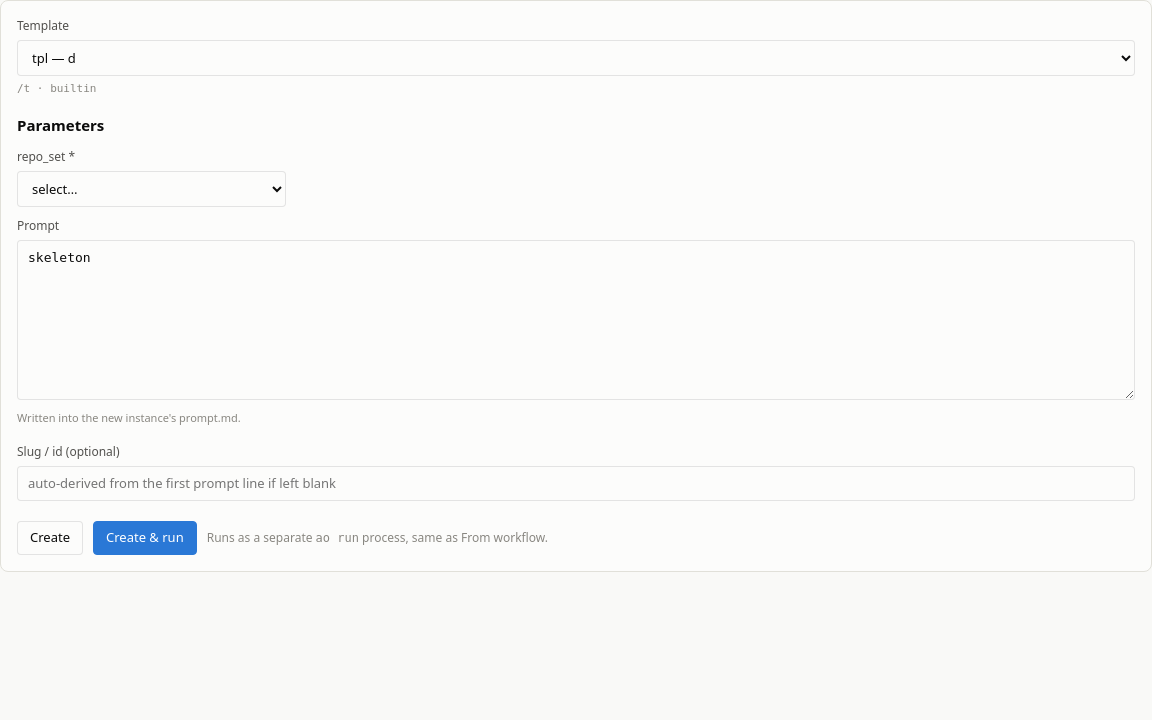
TemplateLaunch 'Create & run' flow › unconfirmed: waits, no navigation
The width and height of the screenshot is (1152, 720).
Select "fin-plan" in the dropdown labelled "repo_set *" at point(152, 189), box [17,171,286,207]
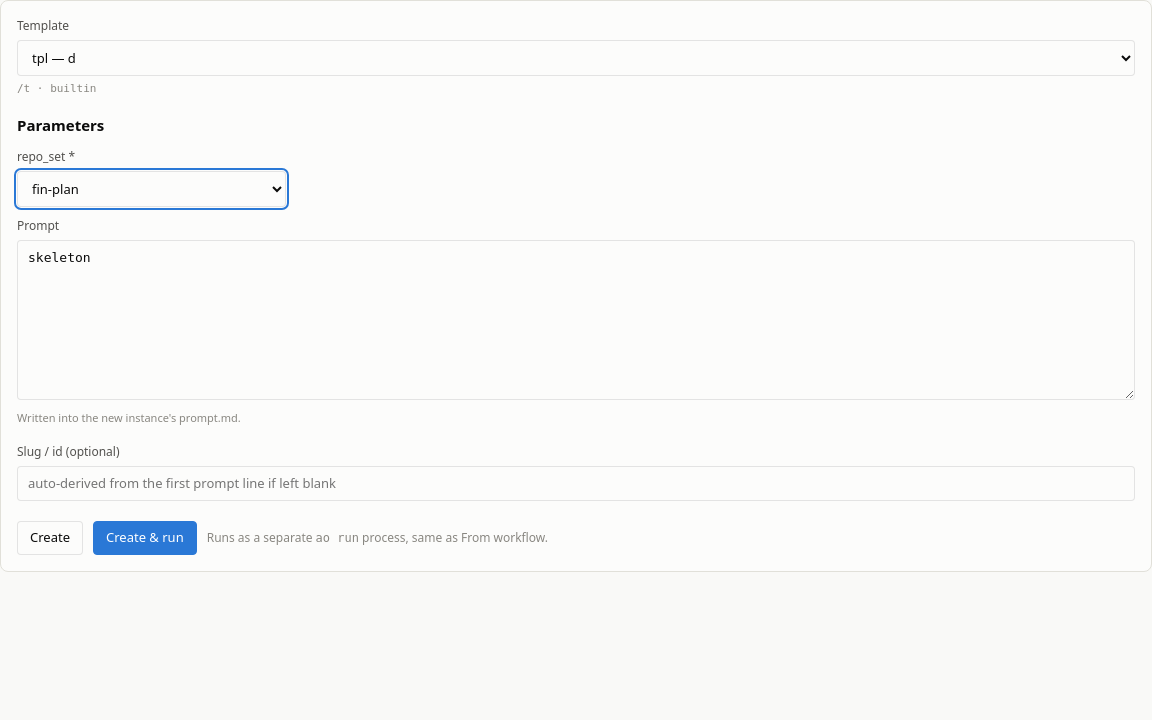
Click the button "Create & run" at point(145, 538), box [93,521,197,554]
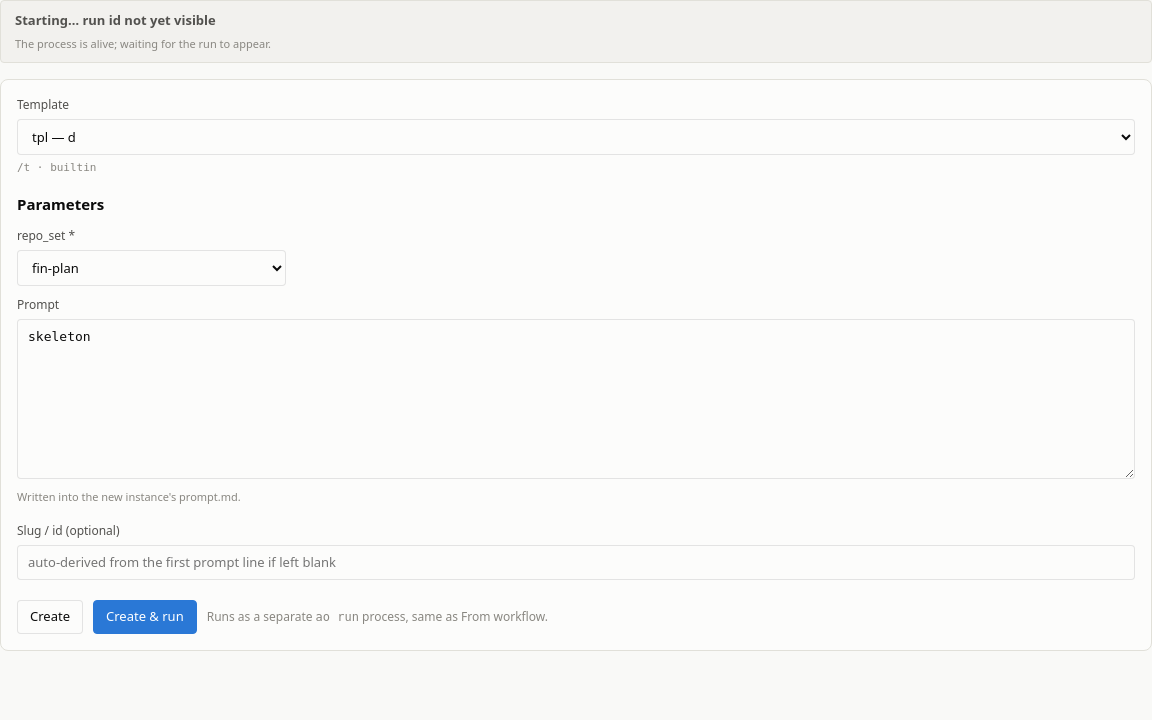
expect the text "Starting… run id not yet visible" is shown: met, box [15,11,216,29]
